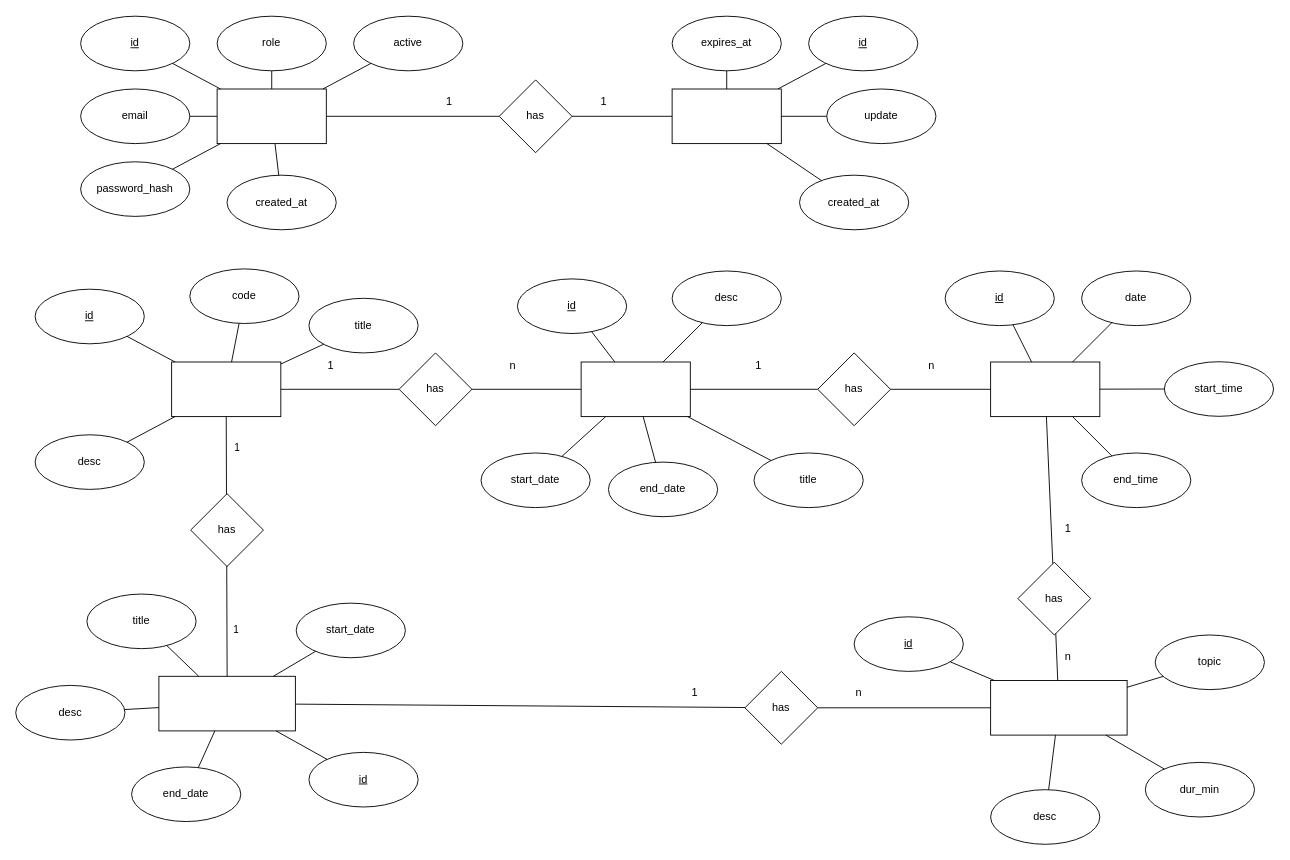
This 1290x860 diagram has some shape labels left out. The centre of each missing label's shape, as x and y in pixels:
"Course" goes at point 635,389.
"Course_day" goes at point 1045,389.
"DetailedPlanning" goes at point 1058,707.
"Module" goes at point 226,389.
"OutlinePlanning" goes at point 226,703.
"Token" goes at point 726,116.
"User" goes at point 271,116.
